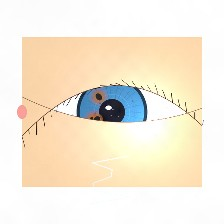foreign_body_visible: (81, 111, 102, 127)
